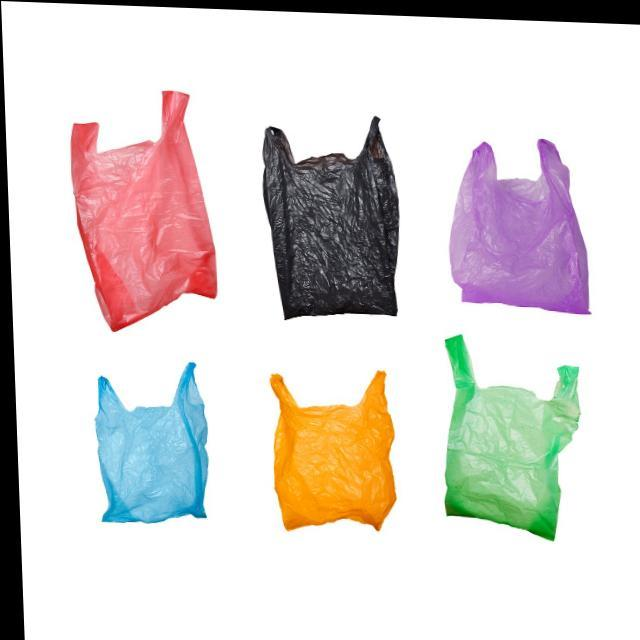Single-layer Plastic: (71, 92, 216, 331), (264, 116, 399, 319), (446, 337, 579, 539), (451, 140, 589, 313), (270, 371, 396, 530), (95, 362, 208, 522)
